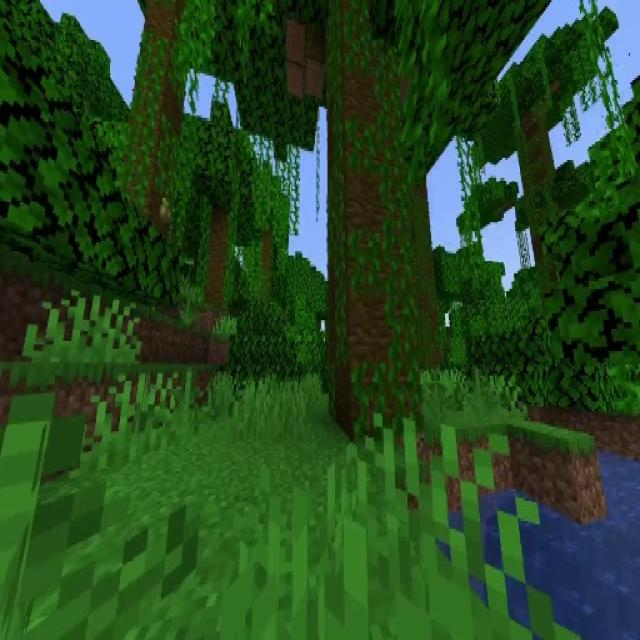jungle: (466, 11, 616, 356), (162, 100, 285, 335)
jungle_log: (330, 3, 422, 436), (133, 17, 172, 228), (521, 133, 556, 260), (201, 215, 233, 312)
